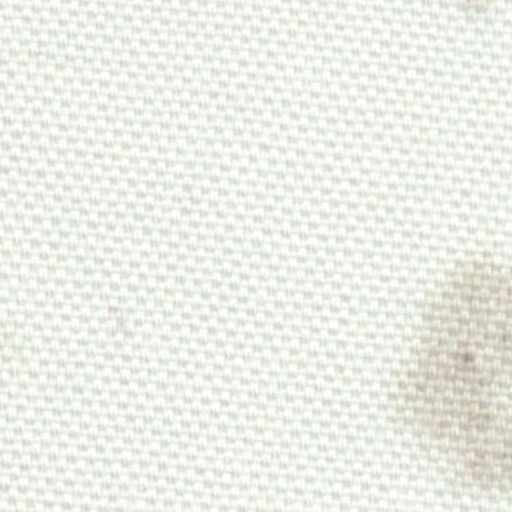WuZi: (380, 220, 508, 508)
